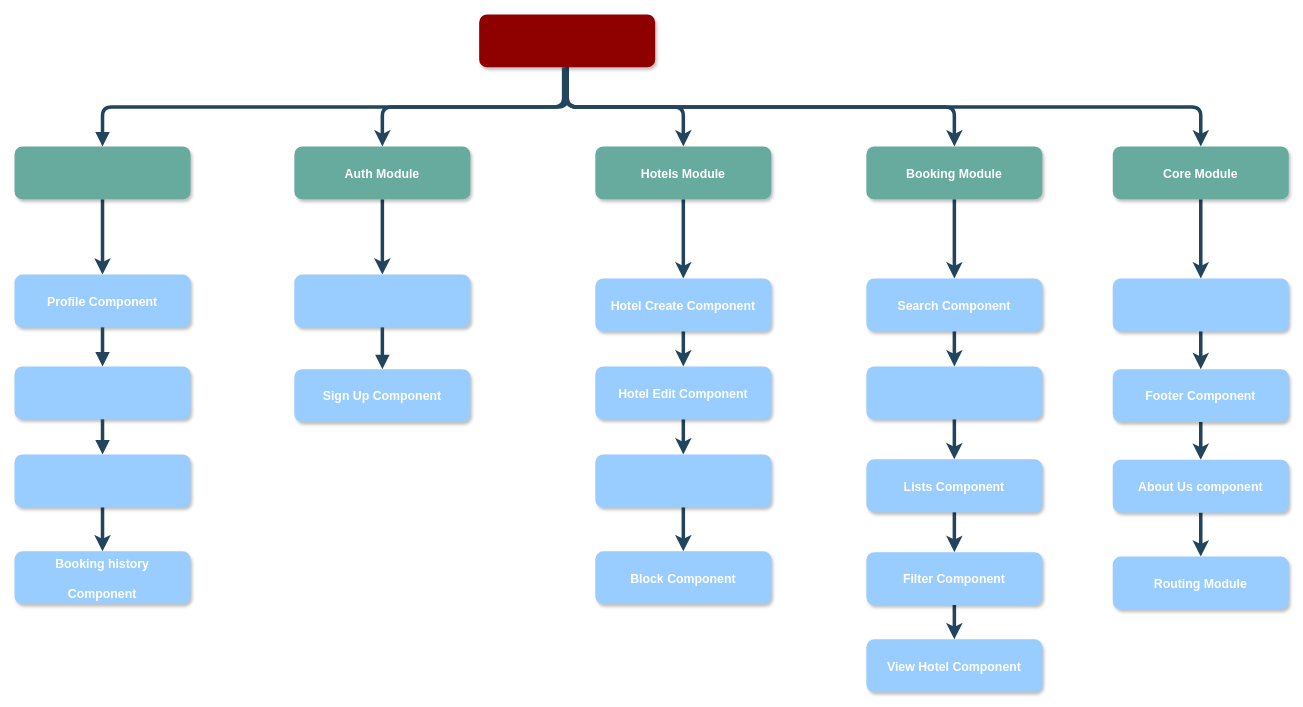
The diagram is 1303 pixels wide and 707 high, and some of its shapes have lost their labels. Here are the shapes that lost their labels. From the top down, the centre of each, then its label:
At (567,42): "Root Module".
At (103,174): "Profile Module".
At (382,302): "Sign In Component".
At (1201,306): "Header Component".
At (103,394): "Review Component".
At (954,394): "Details Component".
At (103,482): "Complaint Component".
At (683,482): "Offer Component".
